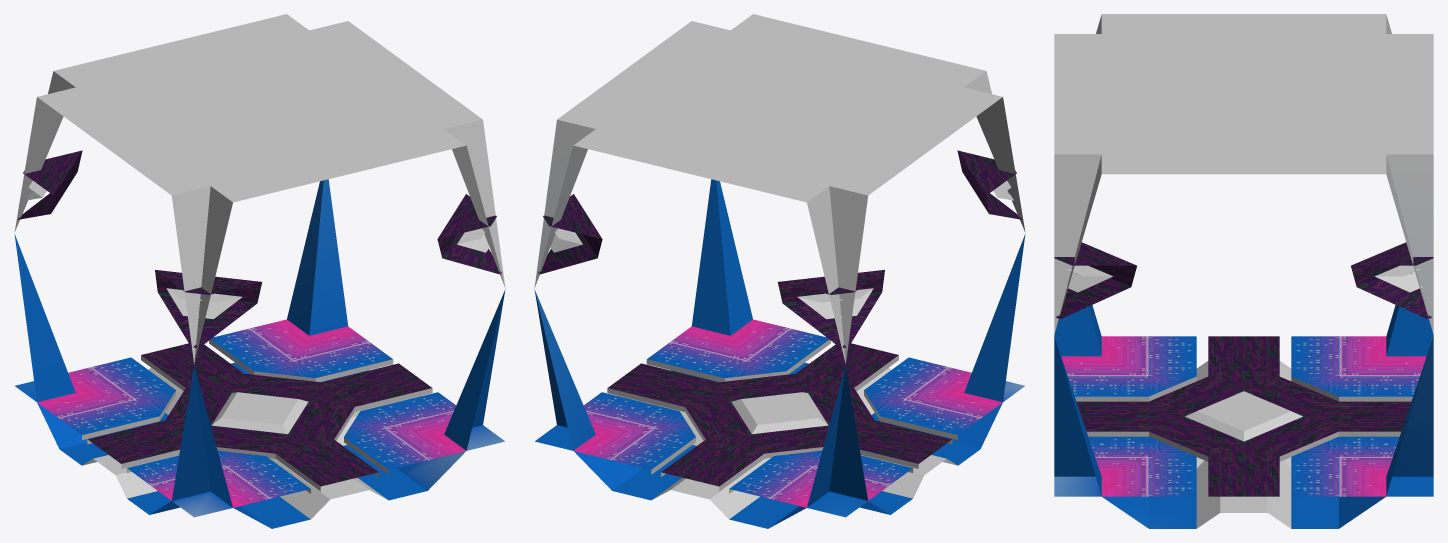
File: cbroad01.FBX
The picture shows the model from 3 angles, left to right: view 1: azimuth 30°, elevation 25°; view 2: azimuth 150°, elevation 25°; view 3: azimuth 270°, elevation 25°; orthographic projection. The views are drawn at different scales.
Visible parts, largest first — view 1: tower2, glass1, glass2, tower1, tower3, cbroad01, glass3, nodule, glass5, glass4, nodule2; view 2: tower2, glass1, glass2, tower1, tower3, cbroad01, glass3, nodule, glass5, glass4, nodule2; view 3: tower2, glass1, glass2, tower1, tower3, cbroad01, nodule, glass3, nodule2, glass5, glass4.
Part boxes in pixels (<box>): tower2: <box>37,14,482,202</box>; glass1: <box>37,319,465,507</box>; glass2: <box>88,343,431,486</box>; tower1: <box>14,179,505,507</box>; tower3: <box>14,71,505,363</box>; cbroad01: <box>15,362,504,528</box>; glass3: <box>17,150,501,348</box>; nodule: <box>82,368,421,519</box>; glass5: <box>82,339,393,493</box>; glass4: <box>87,355,432,491</box>; nodule2: <box>26,181,489,319</box>; tower2: <box>557,14,1002,202</box>; glass1: <box>574,319,1002,507</box>; glass2: <box>608,343,951,486</box>; tower1: <box>534,179,1025,507</box>; tower3: <box>534,71,1025,363</box>; cbroad01: <box>535,362,1024,528</box>; glass3: <box>538,150,1022,348</box>; nodule: <box>618,368,957,519</box>; glass5: <box>646,339,957,493</box>; glass4: <box>607,355,952,491</box>; nodule2: <box>550,181,1013,319</box>; tower2: <box>1054,14,1433,174</box>; glass1: <box>1061,336,1426,496</box>; glass2: <box>1076,336,1411,496</box>; tower1: <box>1054,305,1433,495</box>; tower3: <box>1054,15,1433,334</box>; cbroad01: <box>1054,476,1433,528</box>; nodule: <box>1185,361,1302,528</box>; glass3: <box>1054,242,1433,319</box>; nodule2: <box>1065,265,1422,292</box>; glass5: <box>1075,376,1412,401</box>; glass4: <box>1087,431,1400,461</box>.
Bounding box in the file's own units: 64 × 66 × 64.
